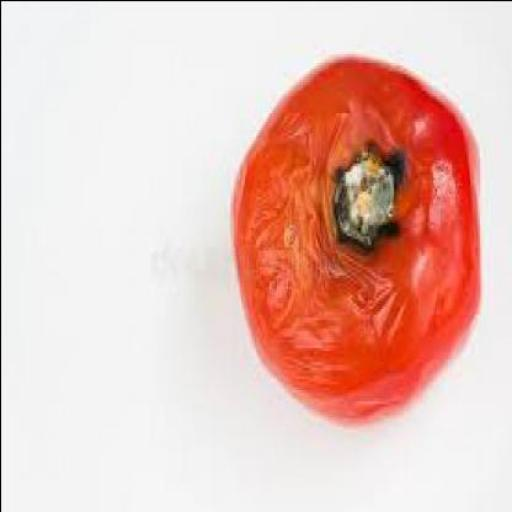biodegradable: (229, 50, 479, 418)
